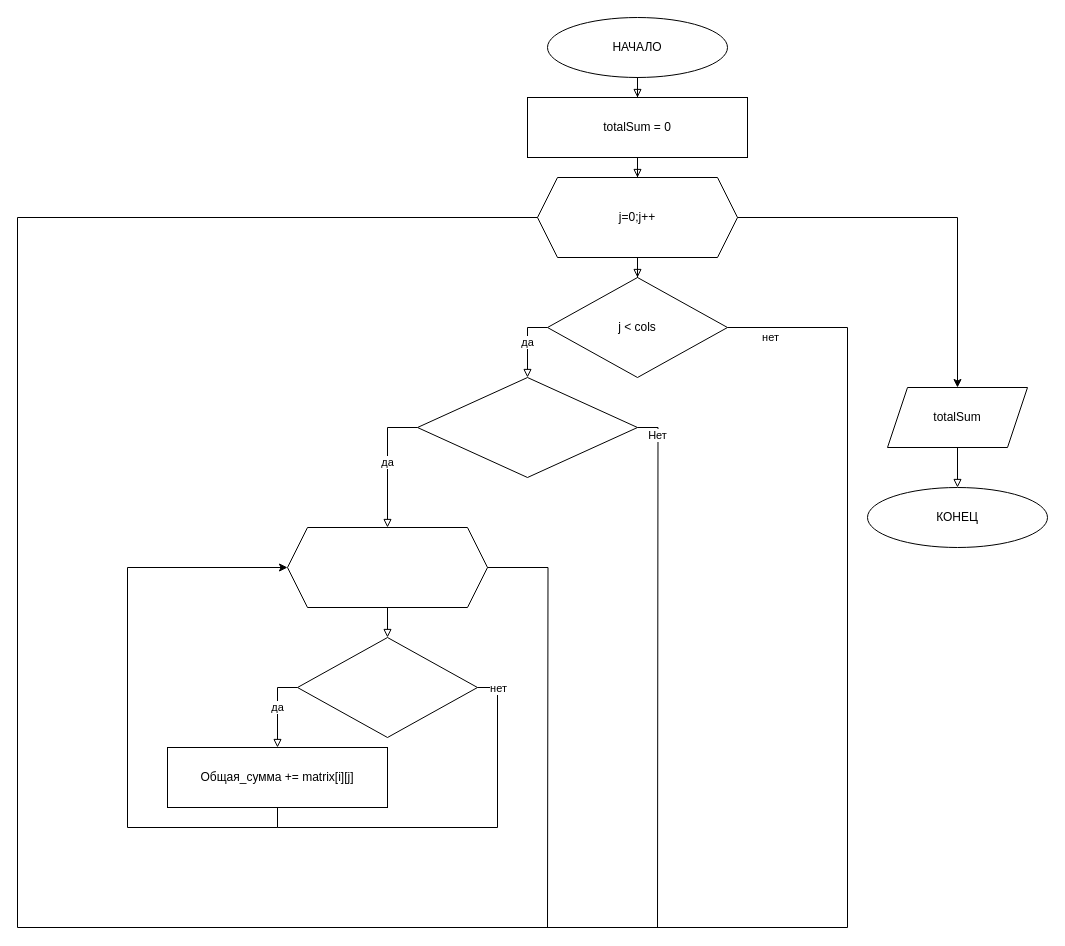
Some shapes in this 1065 by 946 pixel diagram are drawn without their labels. The shapes that lost their labels are listed below. From the top down, each one's centre as x and y in pixels, then its label:
point (527, 427): hasNegativeElement (matrix, j, rows)
point (387, 567): i=0;i++
point (387, 687): i < rows
